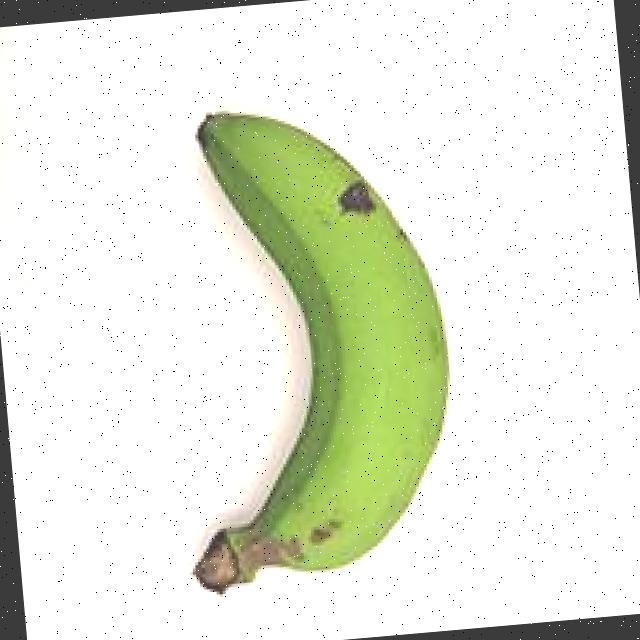Raw: (128, 76, 492, 616)
